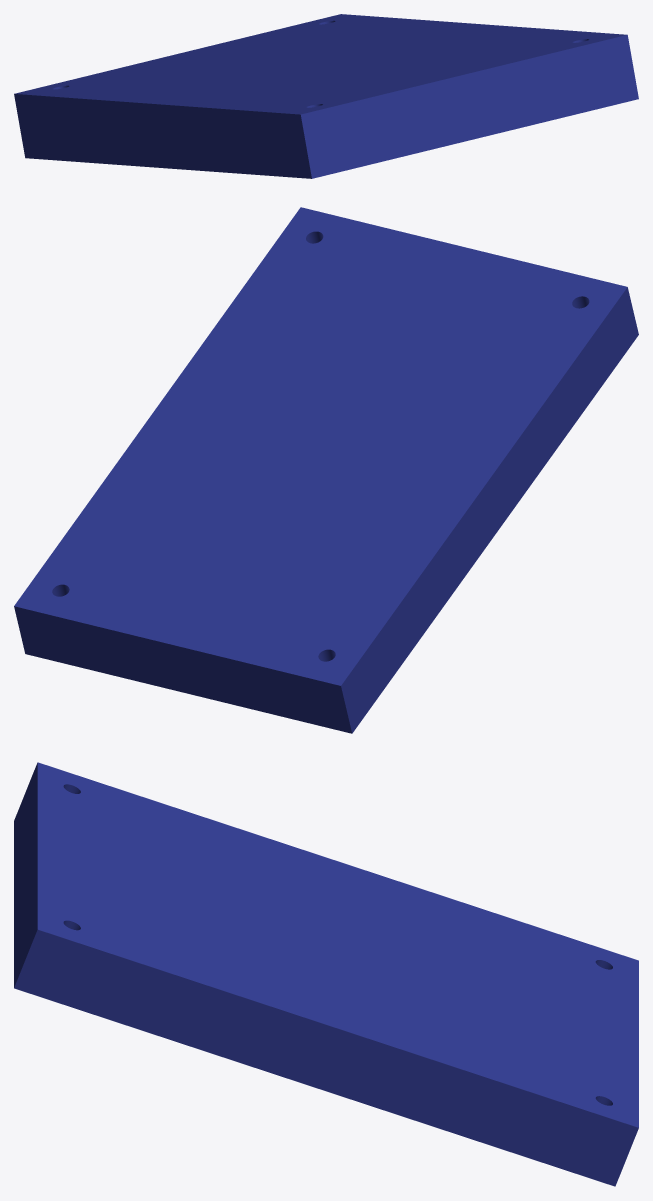
Rendered from EBoxNewAsm_stp_1_FuseBox_stp_1_solid1.obj.
3 views of the same model, one above another, from view 1: azimuth 30°, elevation 25°; view 2: azimuth 150°, elevation 25°; view 3: azimuth 270°, elevation 25° (orthographic). The views are drawn at different scales.
Parts seen in each view (by area): view 1: mesh8065, mesh8070, mesh8067; view 2: mesh8065, mesh8067, mesh8068; view 3: mesh8065, mesh8069, mesh8070.
Boxes of the visible parts, x1,y1,x2,y2 form: mesh8065: (14, 14, 627, 114); mesh8070: (301, 35, 638, 178); mesh8067: (14, 94, 311, 178); mesh8065: (14, 207, 627, 685); mesh8067: (341, 287, 638, 733); mesh8068: (14, 606, 351, 733); mesh8065: (37, 762, 638, 1127); mesh8069: (14, 930, 638, 1186); mesh8070: (14, 763, 37, 987).
Bounding box in the file's own units: 0.086 × 0.0616 × 0.1357.
